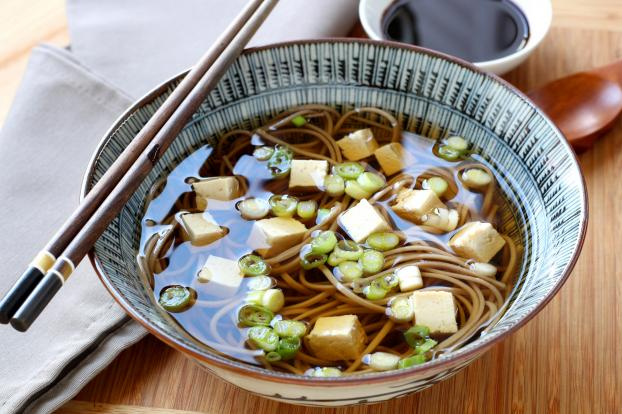Soba: (200, 110, 522, 363)
